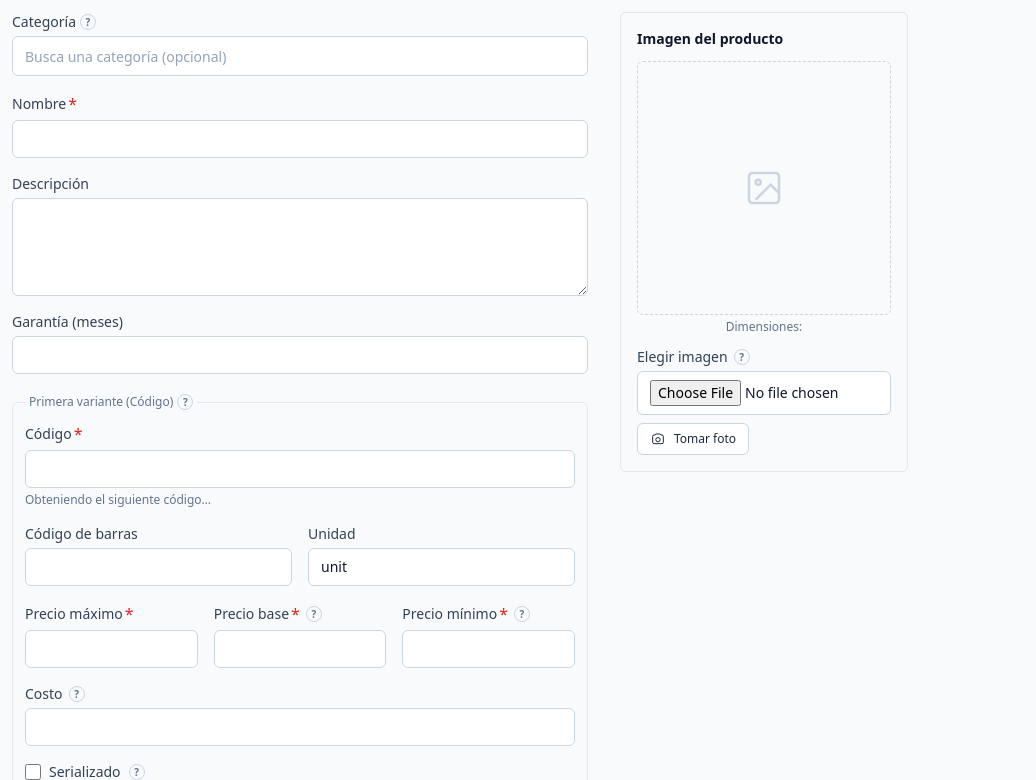
it: ProductForm — create › Categoría is a search bar (not a dropdown): local, case-insensitive match with no extra request
Type "MUEB" into the search field named "Buscar categoría" at {"x": 300, "y": 56}, box top-left (12, 36), bottom-right (588, 76)
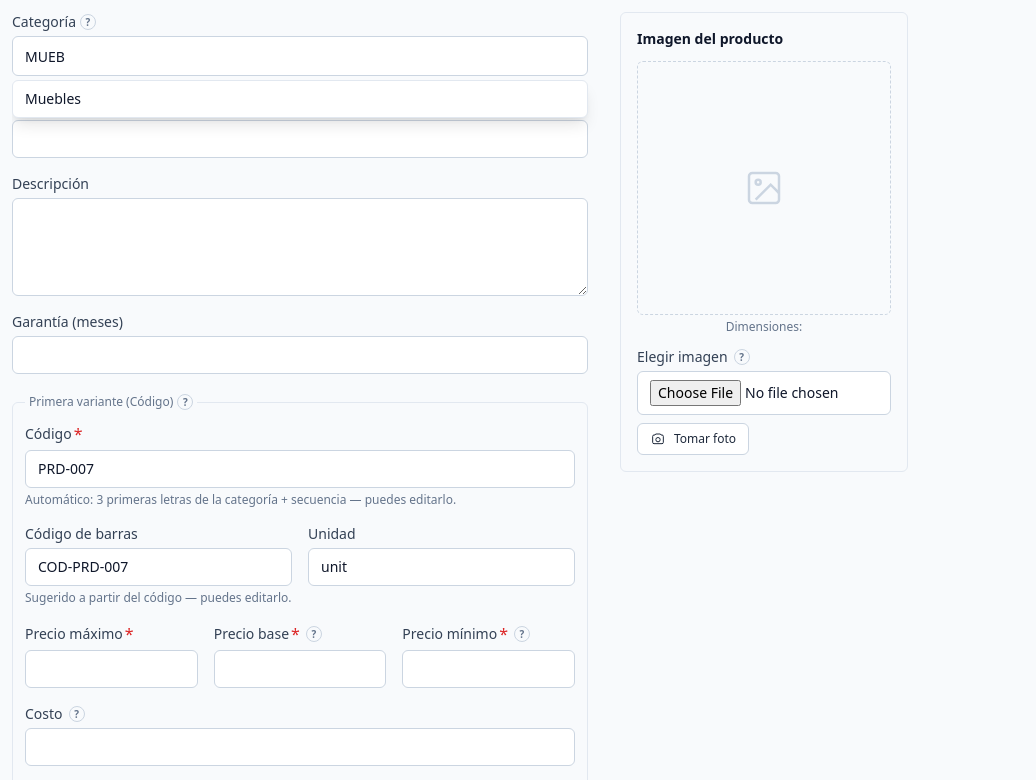
Now the option "Muebles" is shown, box top-left (13, 81), bottom-right (587, 117)
